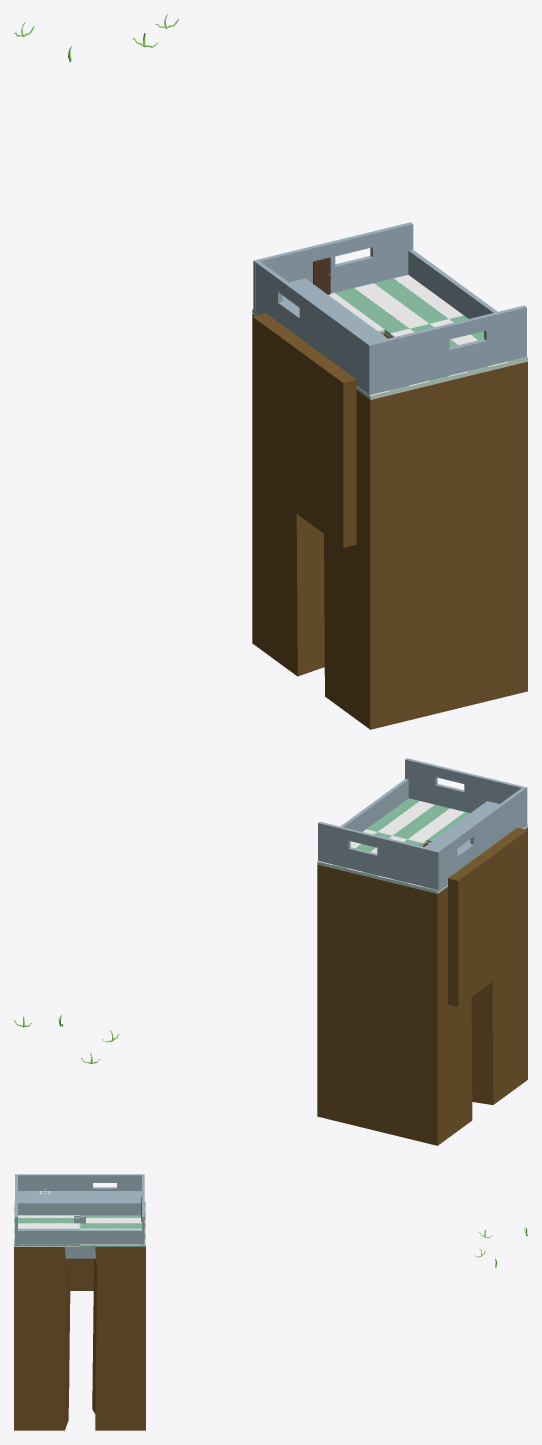
The model's file is level2.fbx.
3 views of the same model, one above another, from view 1: azimuth 30°, elevation 25°; view 2: azimuth 150°, elevation 25°; view 3: azimuth 270°, elevation 25° (orthographic). The views are drawn at different scales.
Parts seen in each view (by area): view 1: Cube_3, Cube_7, Cube_2_2, Cube_4, Cube_1, Cube_6_5, Cube_5, Cube, Cube_9; view 2: Cube_2_2, Cube_7, Cube_3, Cube_6_5, Cube_4, Cube_1, Cube_5, Cube, Cube_9; view 3: Cube_3, Cube_2_2, Cube, Cube_9, Cube_1, Cube_5, Cube_7.
Boxes of the visible parts, x1,y1,x2,y2 form: Cube_3: (324, 361, 527, 729); Cube_7: (252, 313, 356, 547); Cube_2_2: (252, 314, 389, 676); Cube_4: (367, 305, 526, 394); Cube_1: (252, 275, 527, 399); Cube_6_5: (253, 222, 413, 311); Cube_5: (255, 261, 370, 392); Cube: (282, 278, 419, 394); Cube_9: (408, 249, 497, 318); Cube_2_2: (317, 864, 472, 1145); Cube_7: (448, 827, 527, 1006); Cube_3: (422, 828, 527, 1104); Cube_6_5: (318, 821, 440, 890); Cube_4: (405, 758, 527, 826); Cube_1: (317, 798, 527, 893); Cube_5: (436, 788, 525, 888); Cube: (400, 801, 499, 889); Cube_9: (340, 779, 408, 831); Cube_3: (14, 1247, 70, 1430); Cube_2_2: (92, 1247, 145, 1430); Cube: (18, 1191, 141, 1223); Cube_9: (18, 1229, 141, 1258); Cube_1: (14, 1201, 145, 1246); Cube_5: (17, 1174, 142, 1190); Cube_7: (70, 1258, 93, 1290).
Size of the model in its own units: 3223 by 4650 by 10133.
Materials: 9 (1 with a texture image).
